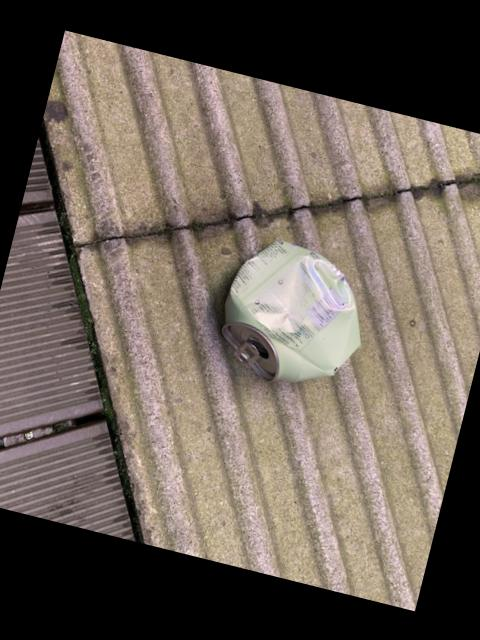metal: (223, 241, 361, 382)
